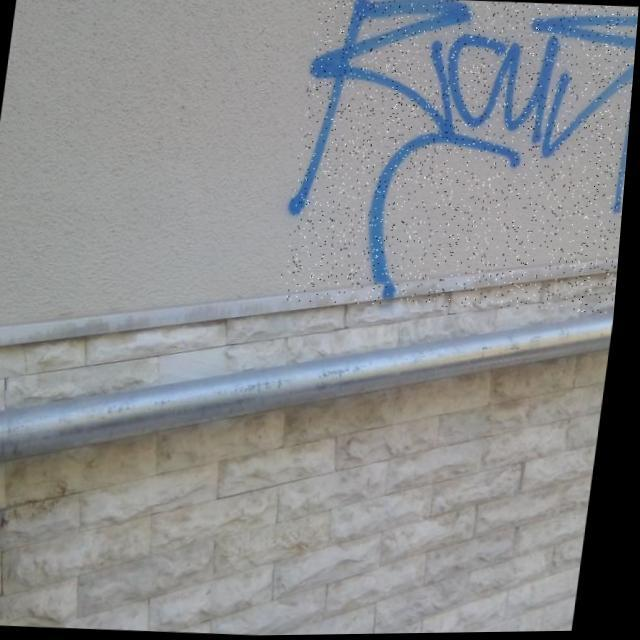-: (281, 0, 640, 318)
